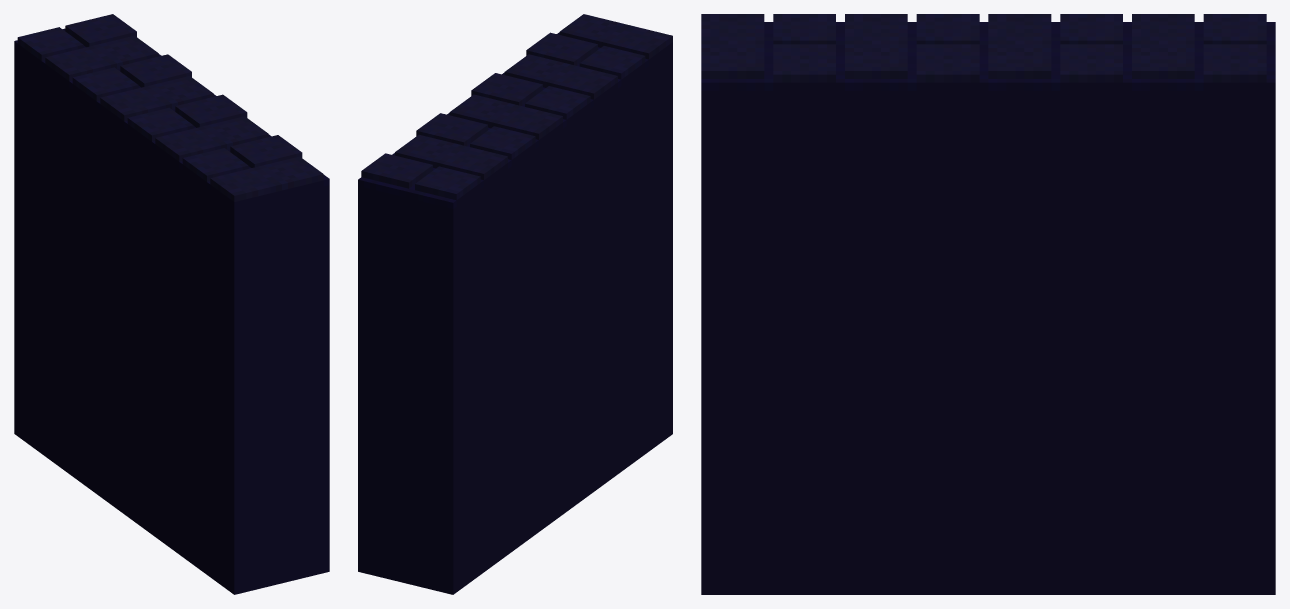
The model's file is flooring_prophet-1.obj.
3 renders of one model, left to right at view 1: azimuth 30°, elevation 25°; view 2: azimuth 150°, elevation 25°; view 3: azimuth 270°, elevation 25°, orthographic. The views are drawn at different scales.
Bounding box in the file's own units: 1.6 × 6.4 × 6.4.
